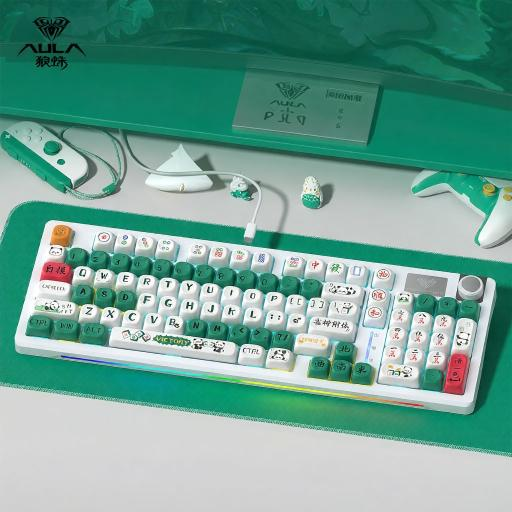KEYBOARD-2: (14, 207, 496, 450)
